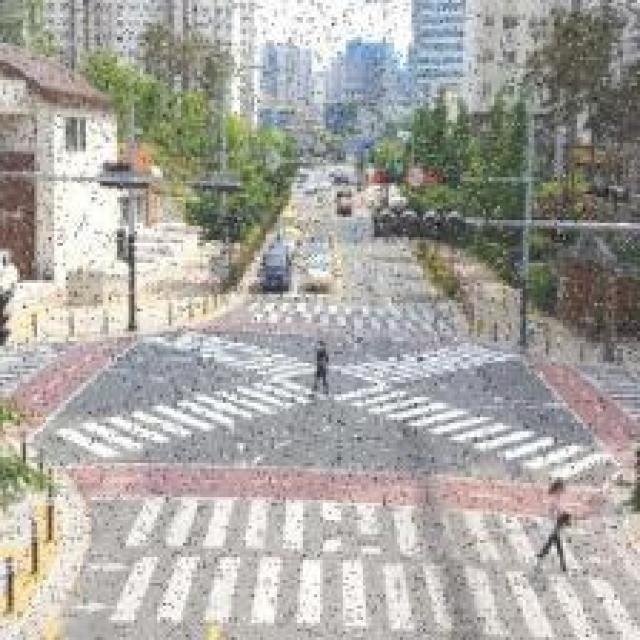walk-crossing: (116, 482, 638, 638), (49, 344, 612, 484), (224, 293, 493, 341), (573, 350, 638, 453), (0, 332, 71, 407)
